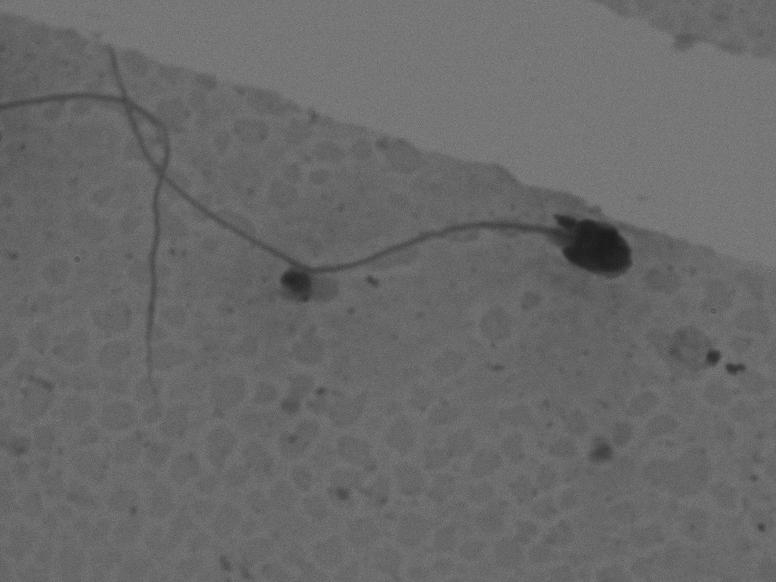Abnormal: (51, 73, 650, 318)
